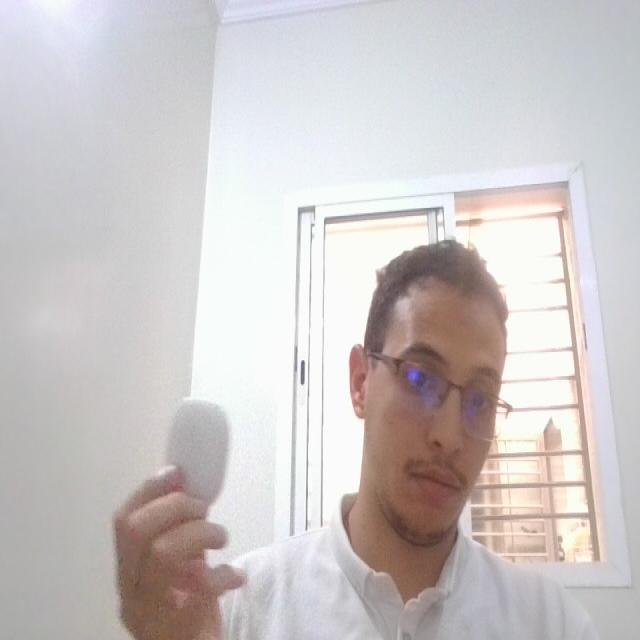airpods: (165, 387, 235, 517)
